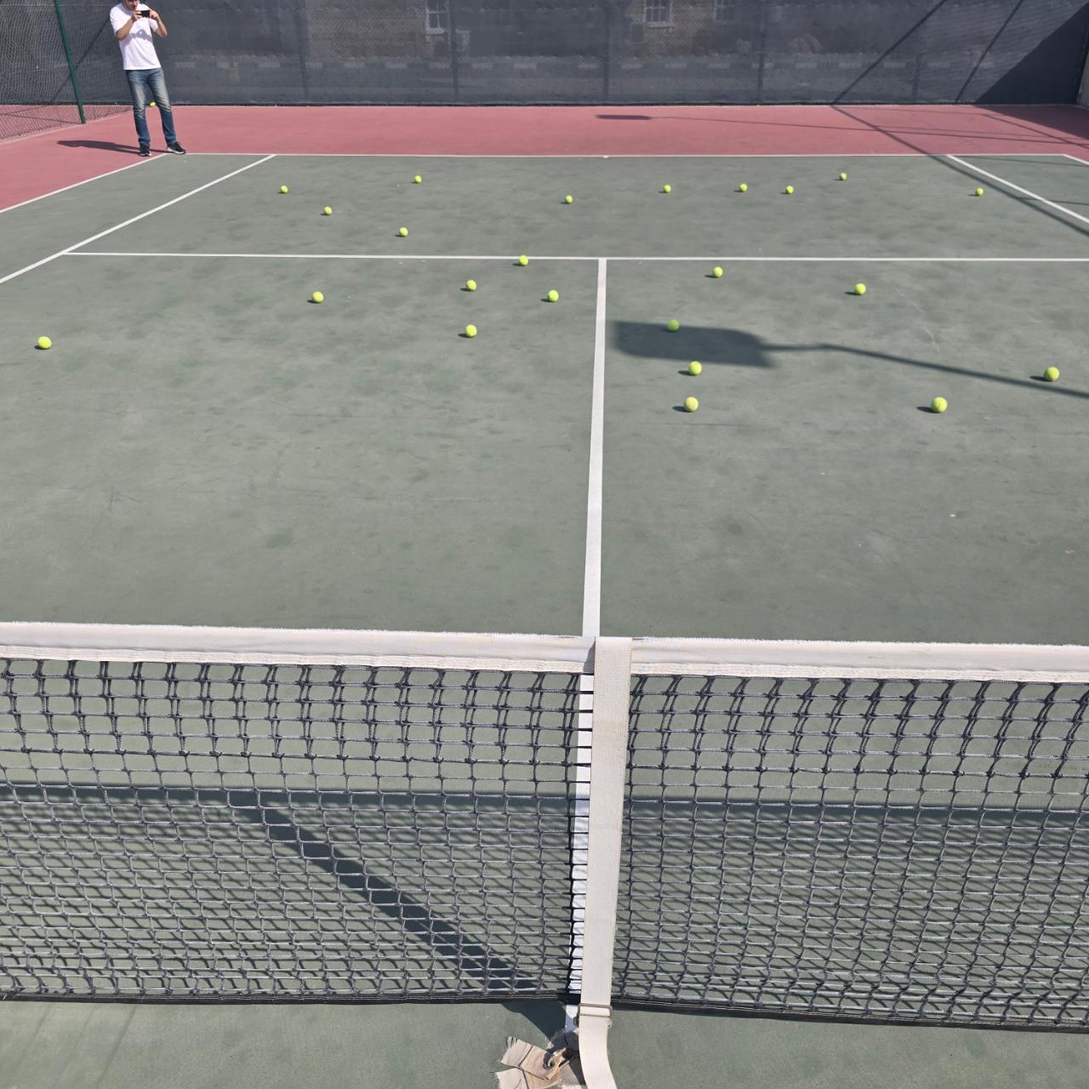tennis-ball: (34, 334, 52, 350), (931, 395, 947, 413), (1043, 364, 1059, 381), (683, 396, 698, 412), (463, 322, 477, 337), (688, 360, 701, 375), (546, 288, 559, 302), (311, 291, 324, 303), (465, 279, 477, 292), (667, 319, 679, 332), (854, 283, 866, 295), (518, 255, 529, 266), (712, 267, 723, 278), (399, 227, 408, 237), (564, 194, 573, 204), (323, 206, 332, 215), (663, 184, 672, 193), (785, 185, 794, 194), (975, 188, 984, 197), (839, 172, 847, 181), (280, 185, 288, 193), (414, 175, 422, 183), (740, 184, 748, 192), (149, 101, 155, 107)
